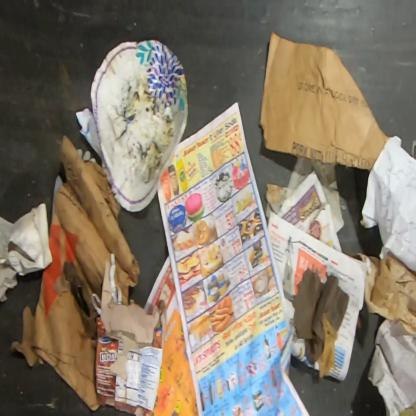cardboard: (10, 134, 141, 412), (258, 31, 390, 172), (94, 261, 166, 415)
